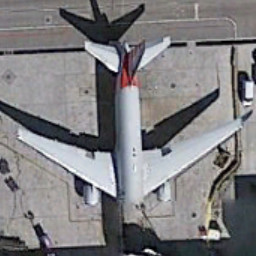Airplane: (8, 29, 256, 255)
